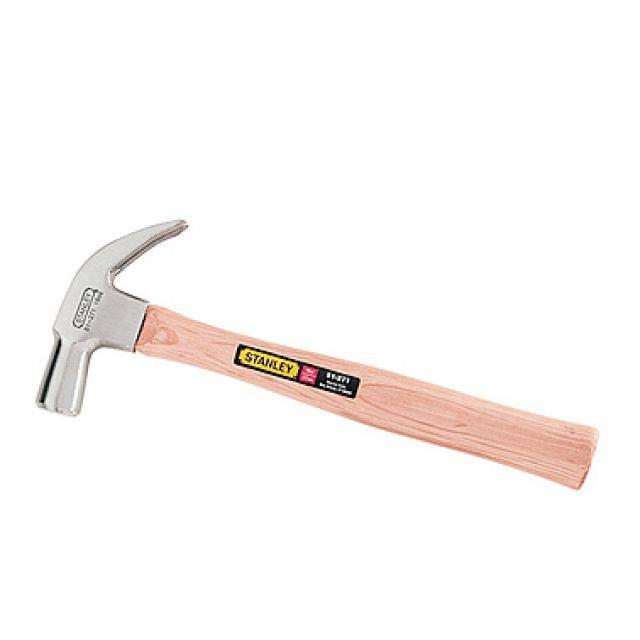hammer: (25, 211, 603, 494)
